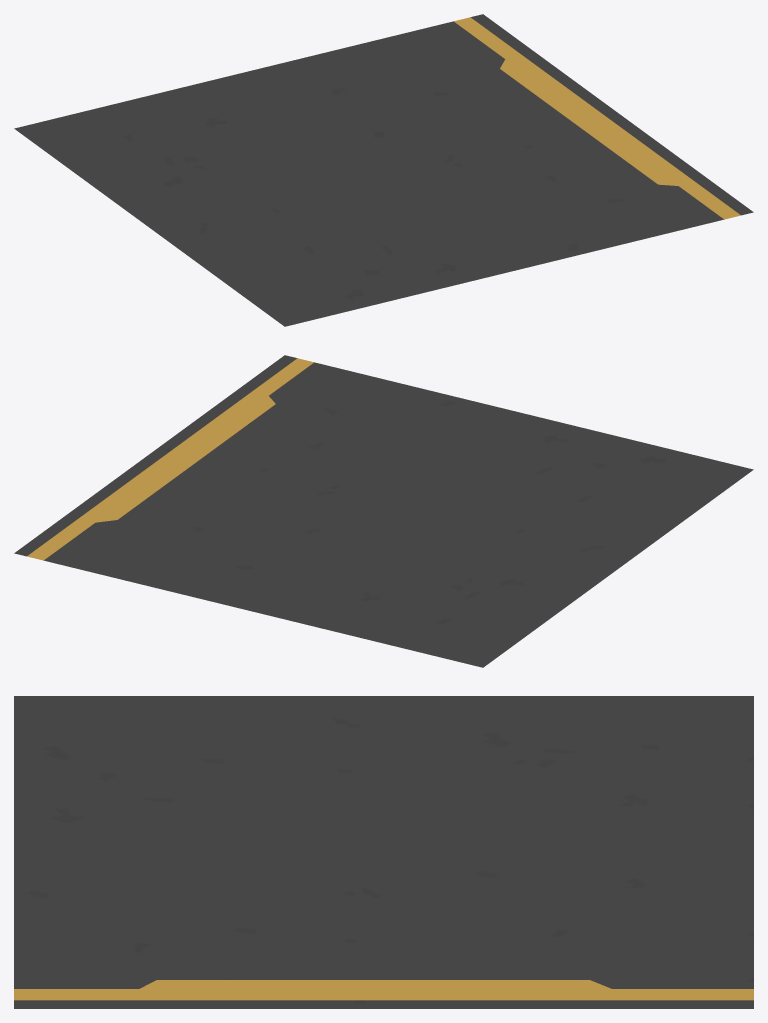
File: SM_Env_Road_YellowLines_01_SF.fbx
3 renders of one model, top to bottom at view 1: azimuth 30°, elevation 25°; view 2: azimuth 150°, elevation 25°; view 3: azimuth 270°, elevation 25°, orthographic. The views are drawn at different scales.
Visible parts, largest first — view 1: SM_Env_Road_YellowLines_01_SF; view 2: SM_Env_Road_YellowLines_01_SF; view 3: SM_Env_Road_YellowLines_01_SF.
Boxes of the visible parts, box(x1,y1,x2,y2) form: SM_Env_Road_YellowLines_01_SF: box(14, 14, 753, 326); SM_Env_Road_YellowLines_01_SF: box(14, 355, 753, 667); SM_Env_Road_YellowLines_01_SF: box(14, 696, 753, 1008).
Size of the model in its own units: 500 by 0 by 500.
